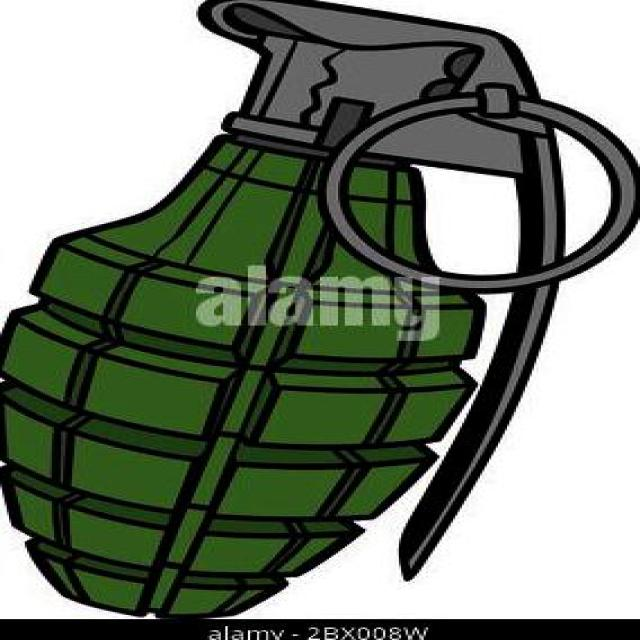grenade: (1, 1, 639, 619)
